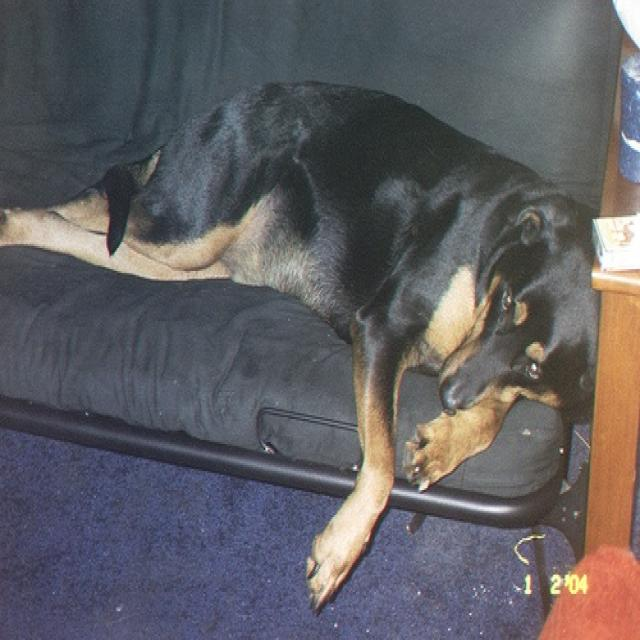dog: (0, 79, 603, 619)
sofa: (0, 0, 621, 625)
